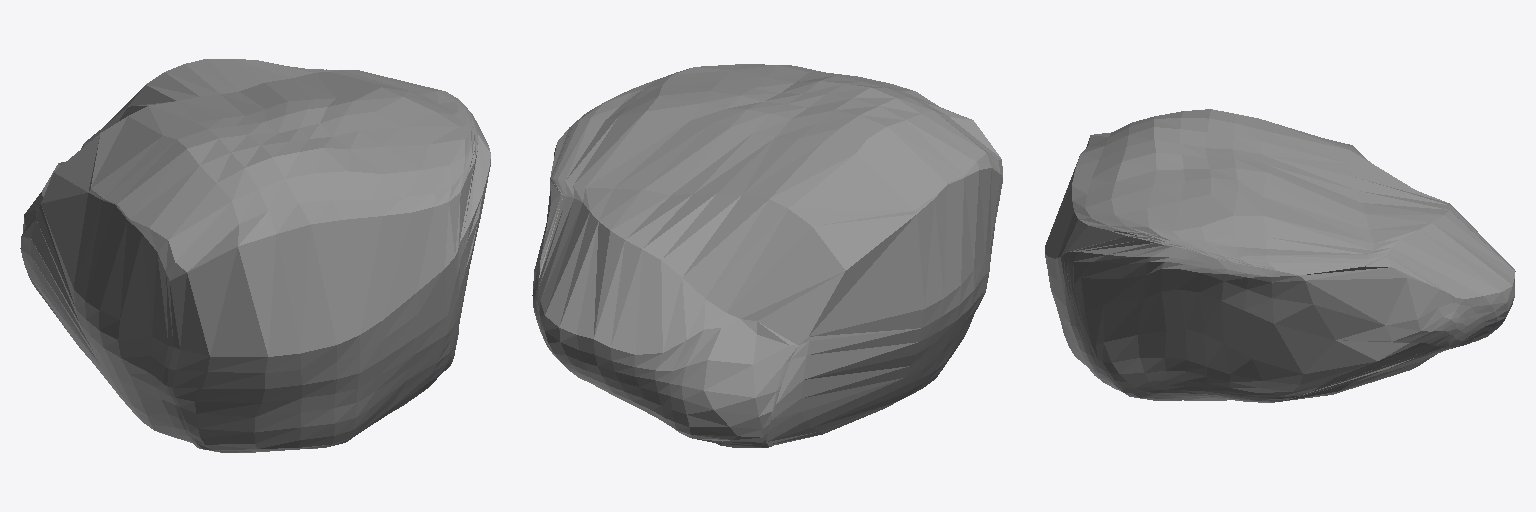
URDF robot description (rock_2):
<?xml version="1.0"?> 

<!-- Copyright 2023 [author] -->

<!-- Licensed under the Apache License, Version 2.0 (the "License"); -->
<!-- you may not use this file except in compliance with the License. -->
<!-- You may obtain a copy of the License at -->

<!--     http://www.apache.org/licenses/LICENSE-2.0 -->

<!-- Unless required by applicable law or agreed to in writing, software -->
<!-- distributed under the License is distributed on an "AS IS" BASIS, -->
<!-- WITHOUT WARRANTIES OR CONDITIONS OF ANY KIND, either express or implied. -->
<!-- See the License for the specific language governing permissions and -->
<!-- limitations under the License. -->

<!-- Authors: [author], [author] -->

<robot name="rock_2">
    <link name="rock_2">
        <visual>
            <origin xyz="0 0 0" rpy="0 0 0" />
            <geometry>
                <mesh filename='meshes/rock_2.stl' />
            </geometry>
            <material name="grey">
                <color rgba="0.6 0.6 0.6 1"/>
            </material>
        </visual>
        <collision>
            <origin xyz="0 0 0" rpy="0 0 0" />
            <geometry>
                <mesh filename='meshes/rock_2.stl' />
            </geometry>
        </collision>
        <inertial>
            <mass value="10"/>
            <inertia ixx="0.4" ixy="0.0" ixz="0.0" iyy="0.4" iyz="0.0" izz="0.2" />
        </inertial>
    </link>
</robot>

--- What the picture shows (computed from the rendered views, not written in the file) ---
The picture shows the robot from 3 angles, left to right: view 1: azimuth 30°, elevation 25°; view 2: azimuth 150°, elevation 25°; view 3: azimuth 270°, elevation 25°; orthographic projection.
Robot: rock_2 — 1 links, 0 joints (none); root link rock_2; default pose: all joints at 0.
Links seen in each view (by area): view 1: rock_2; view 2: rock_2; view 3: rock_2.
Boxes of the visible links, x1,y1,x2,y2 form: rock_2: (20, 59, 490, 452); rock_2: (532, 64, 1002, 447); rock_2: (1045, 109, 1515, 402).
Size in the robot's own frame: 2.42 by 3.03 by 1.76 metres.
Meshes: 1 distinct files referenced, 1 mesh visuals loaded (1 binary STL).
